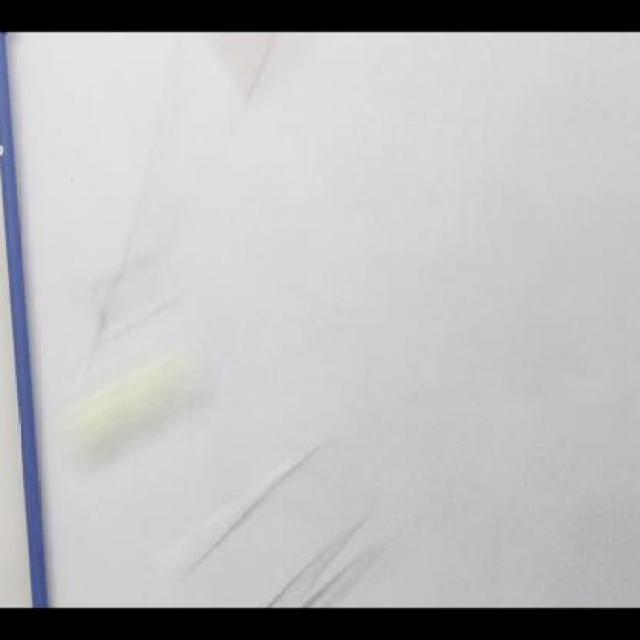baseball: (67, 380, 195, 458)
